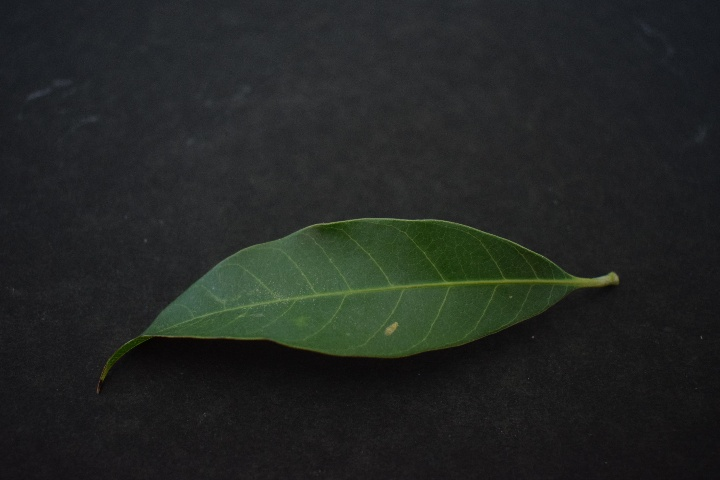healthy: (93, 213, 587, 395)
